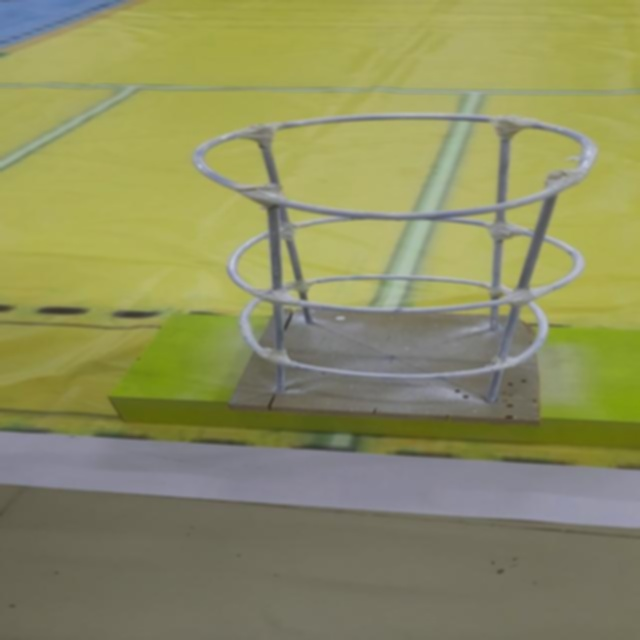silo: (162, 98, 610, 454)
